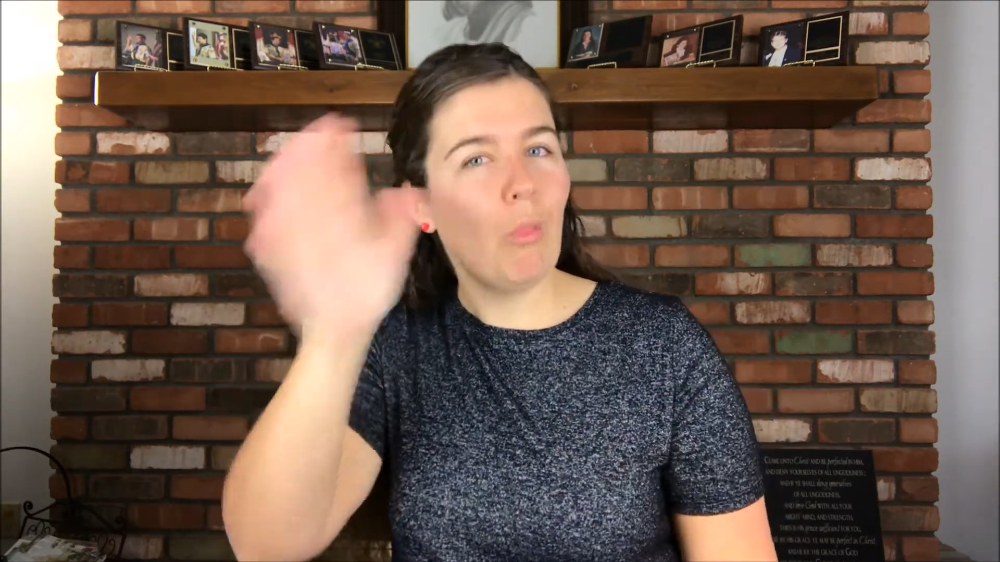hello: (242, 109, 424, 332)
